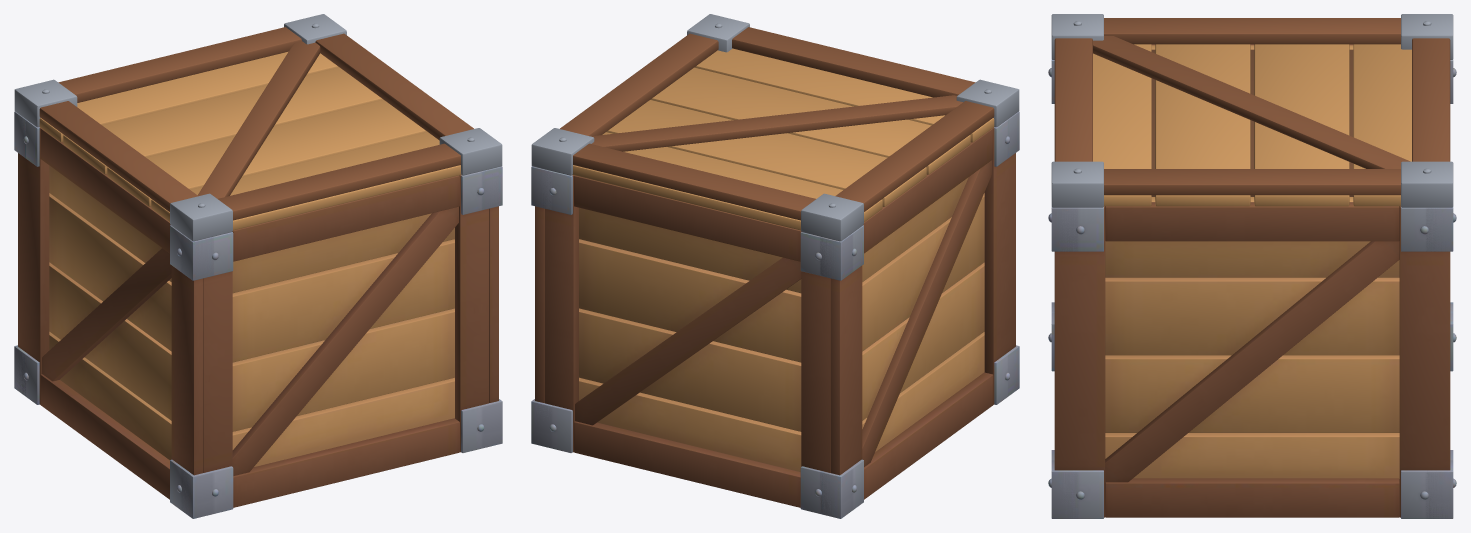
File: wooden-crate.glb
3 views of the same model, side by side, from view 1: azimuth 30°, elevation 25°; view 2: azimuth 150°, elevation 25°; view 3: azimuth 270°, elevation 25° (orthographic). The views are drawn at different scales.
Visible parts, largest first — view 1: wooden-crate_body, wooden-crate_lid; view 2: wooden-crate_body, wooden-crate_lid; view 3: wooden-crate_body, wooden-crate_lid.
Boxes of the visible parts, bbox=[...] form: wooden-crate_body: bbox=[14, 111, 502, 518]; wooden-crate_lid: bbox=[14, 14, 502, 241]; wooden-crate_body: bbox=[531, 111, 1019, 518]; wooden-crate_lid: bbox=[531, 14, 1019, 241]; wooden-crate_body: bbox=[1048, 44, 1456, 518]; wooden-crate_lid: bbox=[1051, 14, 1453, 207].
Size of the model in its own units: 0.66 by 0.6053 by 0.6605.
Materials: 5 (1 with a texture image).
